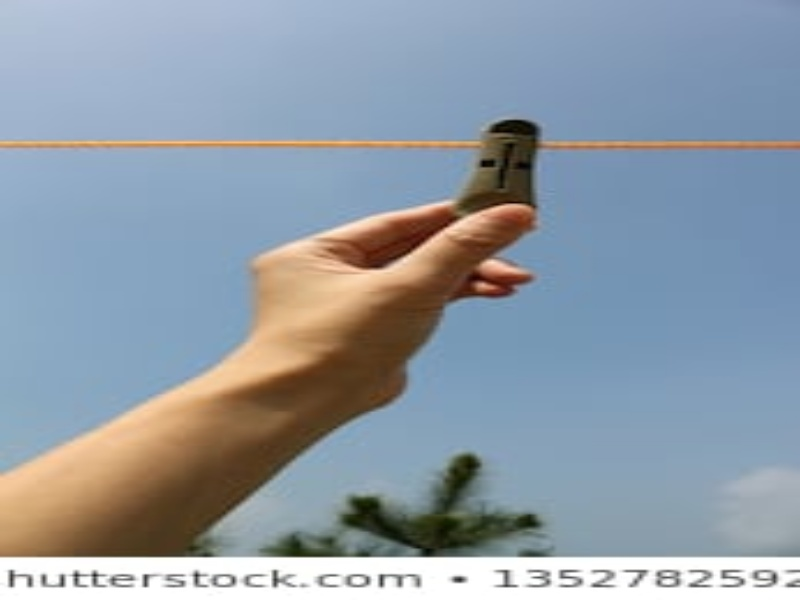plastic-peg: (451, 111, 556, 226)
